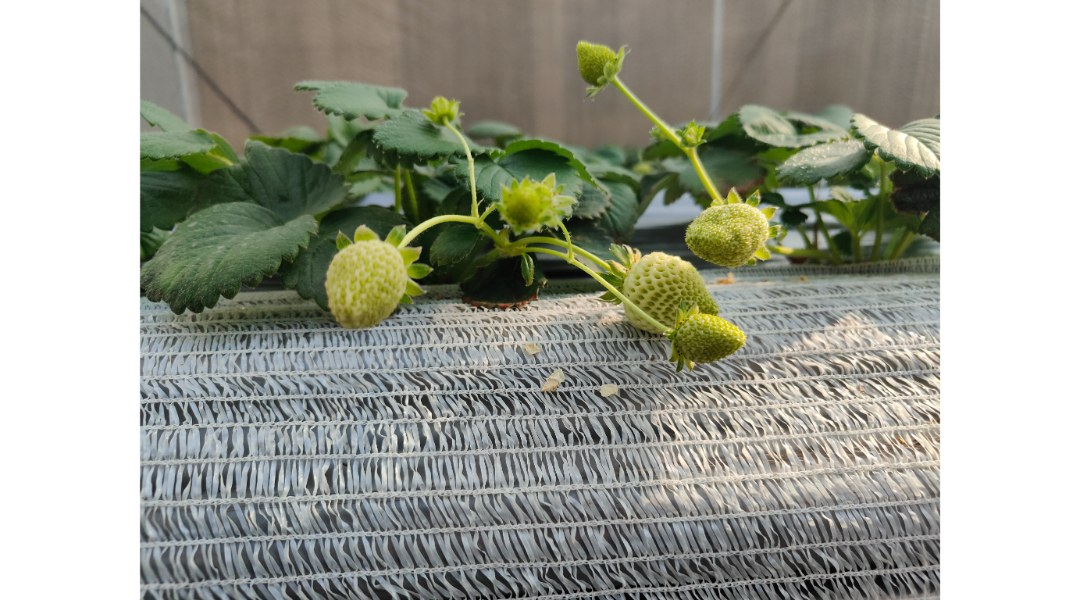berry: (319, 219, 431, 343), (608, 242, 720, 343), (683, 192, 780, 270), (491, 163, 578, 240), (663, 306, 747, 363), (563, 36, 627, 97), (423, 92, 461, 134)
strain: (617, 83, 716, 217), (543, 250, 633, 313), (445, 122, 484, 218), (390, 215, 471, 250)
